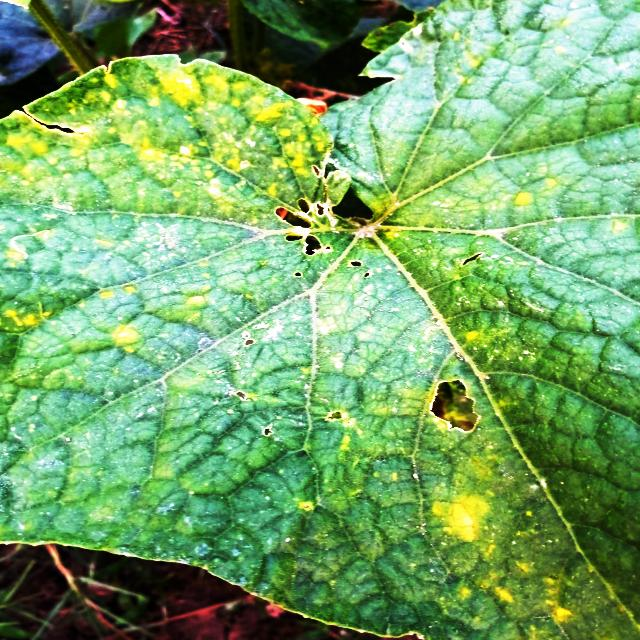Downy-Mildew: (2, 1, 640, 640)
